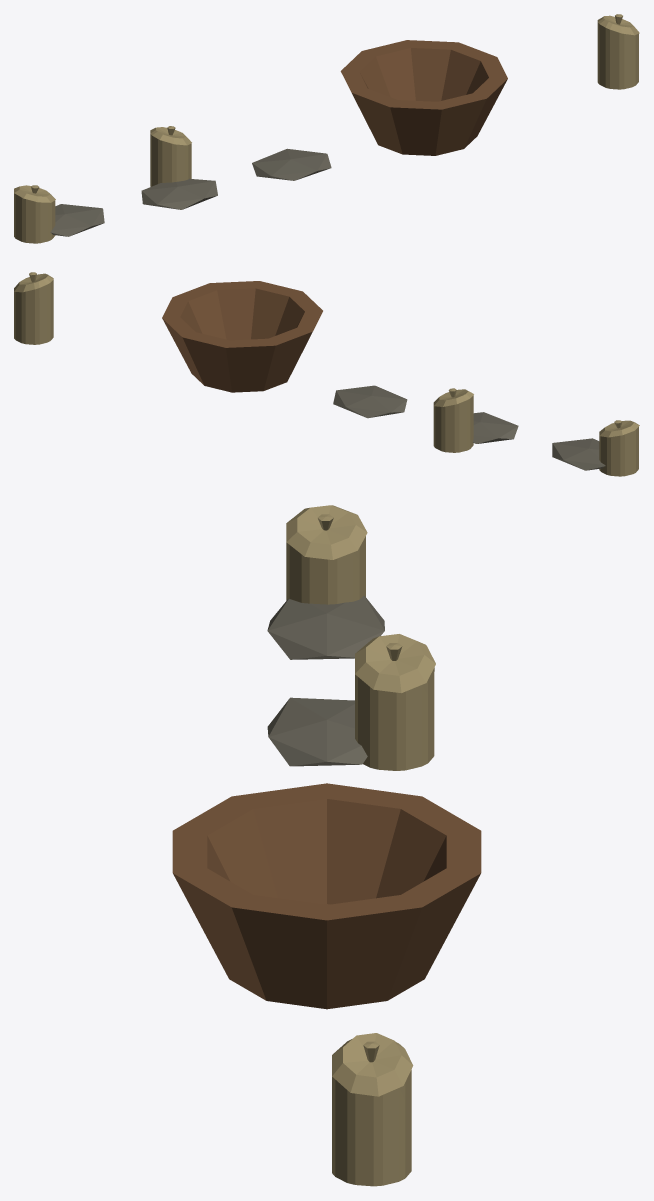
The model's file is offerings-spent.glb.
3 views of the same model, one above another, from view 1: azimuth 30°, elevation 25°; view 2: azimuth 150°, elevation 25°; view 3: azimuth 270°, elevation 25° (orthographic). The views are drawn at different scales.
Parts seen in each view (by area): view 1: Gold, Cloth, Stone; view 2: Gold, Cloth, Stone; view 3: Gold, Cloth, Stone.
Boxes of the visible parts, left/top/right/bottom form: Gold: left=340, top=40, right=507, bottom=155; Cloth: left=14, top=14, right=639, bottom=243; Stone: left=50, top=148, right=331, bottom=236; Gold: left=162, top=281, right=322, bottom=392; Cloth: left=14, top=272, right=639, bottom=476; Stone: left=333, top=385, right=605, bottom=470; Gold: left=172, top=783, right=481, bottom=1009; Cloth: left=286, top=505, right=435, bottom=1186; Stone: left=267, top=595, right=384, bottom=766.
Bounding box in the file's own units: 0.6161 × 0.0613 × 0.1351.
